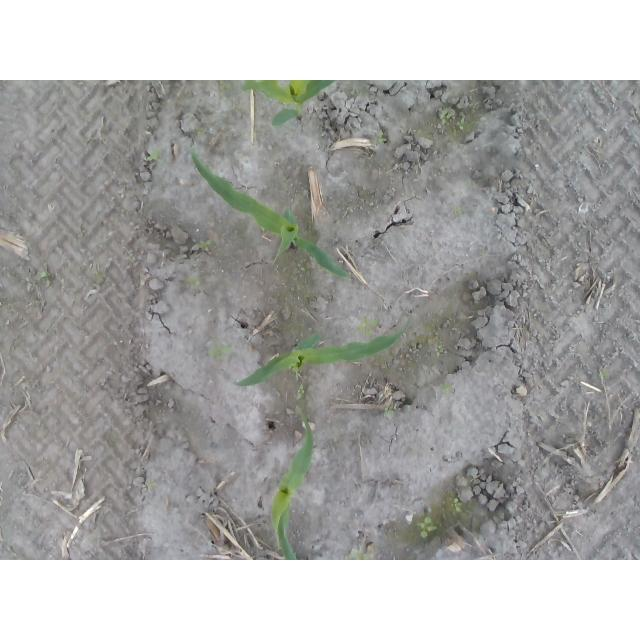Maize: (184, 148, 352, 281), (233, 309, 411, 387), (268, 405, 317, 560), (240, 81, 336, 127)
Weeds: (439, 109, 466, 133), (418, 517, 439, 540), (207, 346, 234, 362), (357, 319, 379, 337), (346, 548, 371, 560), (147, 151, 165, 164), (40, 263, 52, 282), (199, 239, 213, 252), (296, 385, 307, 399), (445, 381, 456, 395), (374, 133, 387, 144), (383, 404, 393, 417), (222, 80, 234, 90), (454, 500, 463, 513), (600, 368, 609, 380), (454, 204, 463, 216)
